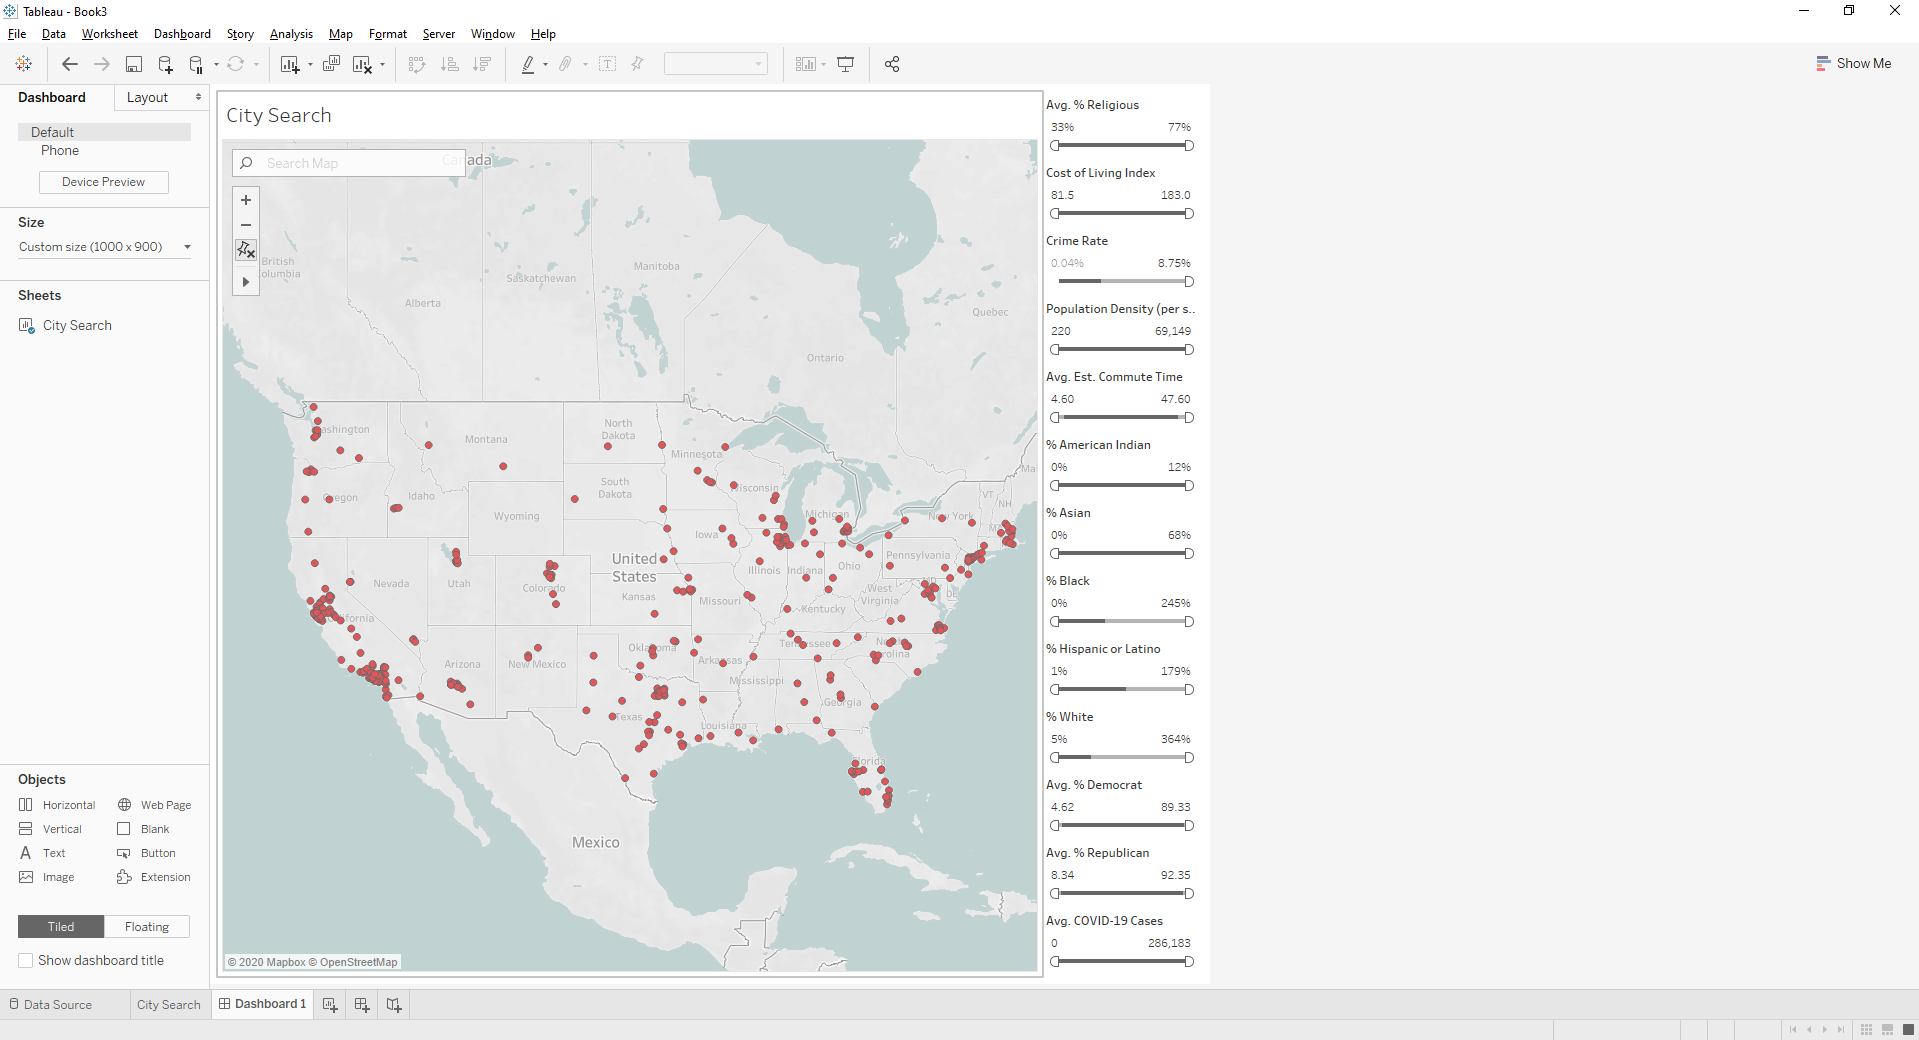

The page's visual inventory and layout, read from the dashboard file:
{"tool":"tableau","page":{"name":"Dashboard 1","canvas":[1000,900],"ordinal":0},"visuals":[{"type":"worksheet","title":"City Search","mark":"Multipolygon","box":[8,8,824,884]},{"type":"filter","title":"City Search","param":"[federated.12fyu7z0ehrk1g10s2ia71m5e69m].[avg:Religiosity:qk]","box":[832,8,160,68]},{"type":"filter","title":"City Search","param":"[federated.12fyu7z0ehrk1g10s2ia71m5e69m].[attr:Cost of Living Index (advisorsmit","box":[832,76,160,68]},{"type":"filter","title":"City Search","param":"[federated.12fyu7z0ehrk1g10s2ia71m5e69m].[sum:Crime rate:qk]","box":[832,144,160,68]},{"type":"filter","title":"City Search","param":"[federated.12fyu7z0ehrk1g10s2ia71m5e69m].[sum:Calculation_1760063066873839617:qk","box":[832,212,160,68]},{"type":"filter","title":"City Search","param":"[federated.12fyu7z0ehrk1g10s2ia71m5e69m].[avg:commute_time_mins_est:qk]","box":[832,280,160,68]},{"type":"filter","title":"City Search","param":"[federated.12fyu7z0ehrk1g10s2ia71m5e69m].[sum:Calculation_1677309423823450119:qk","box":[832,348,160,68]},{"type":"filter","title":"City Search","param":"[federated.12fyu7z0ehrk1g10s2ia71m5e69m].[sum:Calculation_1677309423823351814:qk","box":[832,416,160,68]},{"type":"filter","title":"City Search","param":"[federated.12fyu7z0ehrk1g10s2ia71m5e69m].[sum:Calculation_1677309423823540232:qk","box":[832,484,160,68]},{"type":"filter","title":"City Search","param":"[federated.12fyu7z0ehrk1g10s2ia71m5e69m].[sum:Calculation_1677309423823716362:qk","box":[832,552,160,68]},{"type":"filter","title":"City Search","param":"[federated.12fyu7z0ehrk1g10s2ia71m5e69m].[sum:Calculation_1677309423823626249:qk","box":[832,620,160,68]},{"type":"filter","title":"City Search","param":"[federated.12fyu7z0ehrk1g10s2ia71m5e69m].[avg:Democrats 2016:qk]","box":[832,688,160,68]},{"type":"filter","title":"City Search","param":"[federated.12fyu7z0ehrk1g10s2ia71m5e69m].[avg:Republicans 2016:qk]","box":[832,755.9,160,68]},{"type":"filter","title":"City Search","param":"[federated.12fyu7z0ehrk1g10s2ia71m5e69m].[avg:10/15/20:qk]","box":[832,823.9,160,68.1]}]}

Visuals, with their boxes on the page's 1000x900 design canvas (x1, y1, x2, y2). These are canvas units, not pixel positions in the 1919x1040 screenshot, which may show the page scaled, cropped or inside an application window:
"City Search" worksheet (Multipolygon marks): {"left": 8, "top": 8, "right": 832, "bottom": 892}
"City Search" filter: {"left": 832, "top": 8, "right": 992, "bottom": 76}
"City Search" filter: {"left": 832, "top": 76, "right": 992, "bottom": 144}
"City Search" filter: {"left": 832, "top": 144, "right": 992, "bottom": 212}
"City Search" filter: {"left": 832, "top": 212, "right": 992, "bottom": 280}
"City Search" filter: {"left": 832, "top": 280, "right": 992, "bottom": 348}
"City Search" filter: {"left": 832, "top": 348, "right": 992, "bottom": 416}
"City Search" filter: {"left": 832, "top": 416, "right": 992, "bottom": 484}
"City Search" filter: {"left": 832, "top": 484, "right": 992, "bottom": 552}
"City Search" filter: {"left": 832, "top": 552, "right": 992, "bottom": 620}
"City Search" filter: {"left": 832, "top": 620, "right": 992, "bottom": 688}
"City Search" filter: {"left": 832, "top": 688, "right": 992, "bottom": 756}
"City Search" filter: {"left": 832, "top": 756, "right": 992, "bottom": 824}
"City Search" filter: {"left": 832, "top": 824, "right": 992, "bottom": 892}
